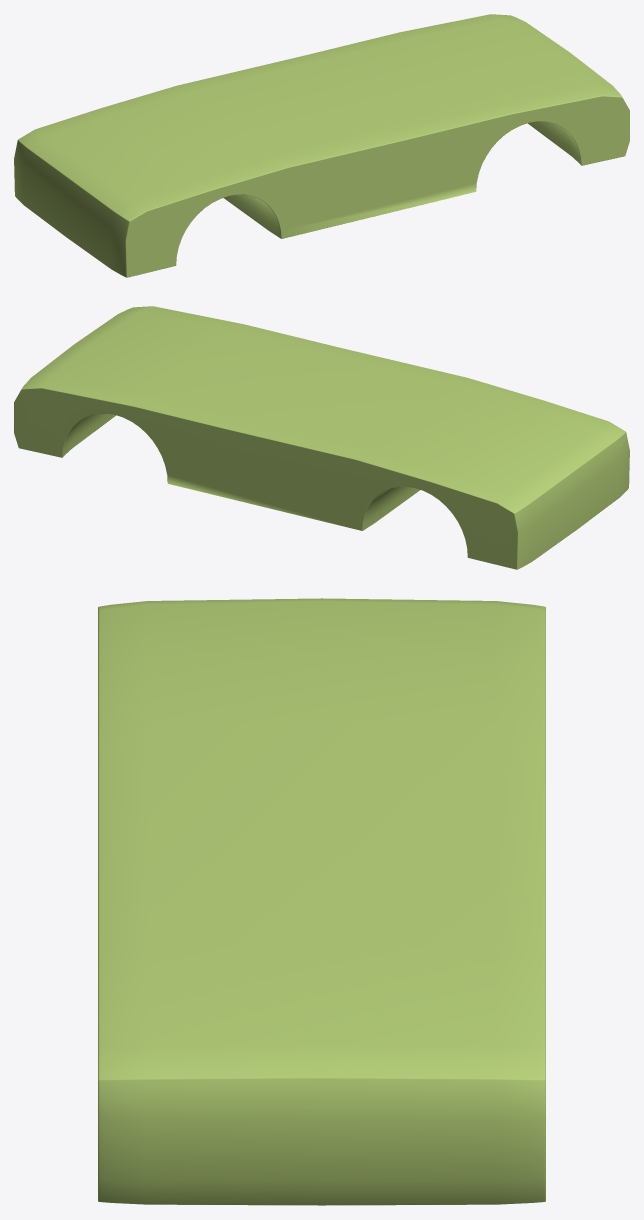
Rendered from coachwork.glb.
The picture shows the model from 3 angles, top to bottom: view 1: azimuth 30°, elevation 25°; view 2: azimuth 150°, elevation 25°; view 3: azimuth 270°, elevation 25°; orthographic projection. The views are drawn at different scales.
Parts seen in each view (by area): view 1: body_shell; view 2: body_shell; view 3: body_shell.
Boxes of the visible parts, x1=… form: body_shell: x1=14, y1=14, x2=629, y2=277; body_shell: x1=14, y1=306, x2=629, y2=569; body_shell: x1=98, y1=598, x2=545, y2=1205.
Bounding box in the file's own units: 5.28 × 0.738 × 2.
